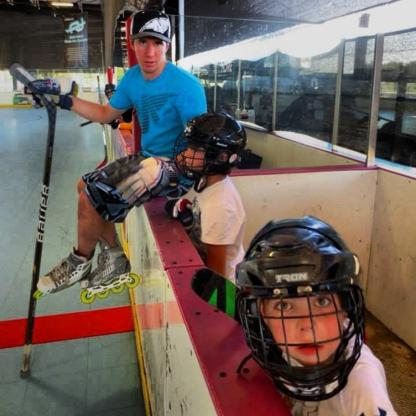Helmet: (233, 213, 368, 403), (170, 110, 247, 184), (122, 3, 172, 41)
